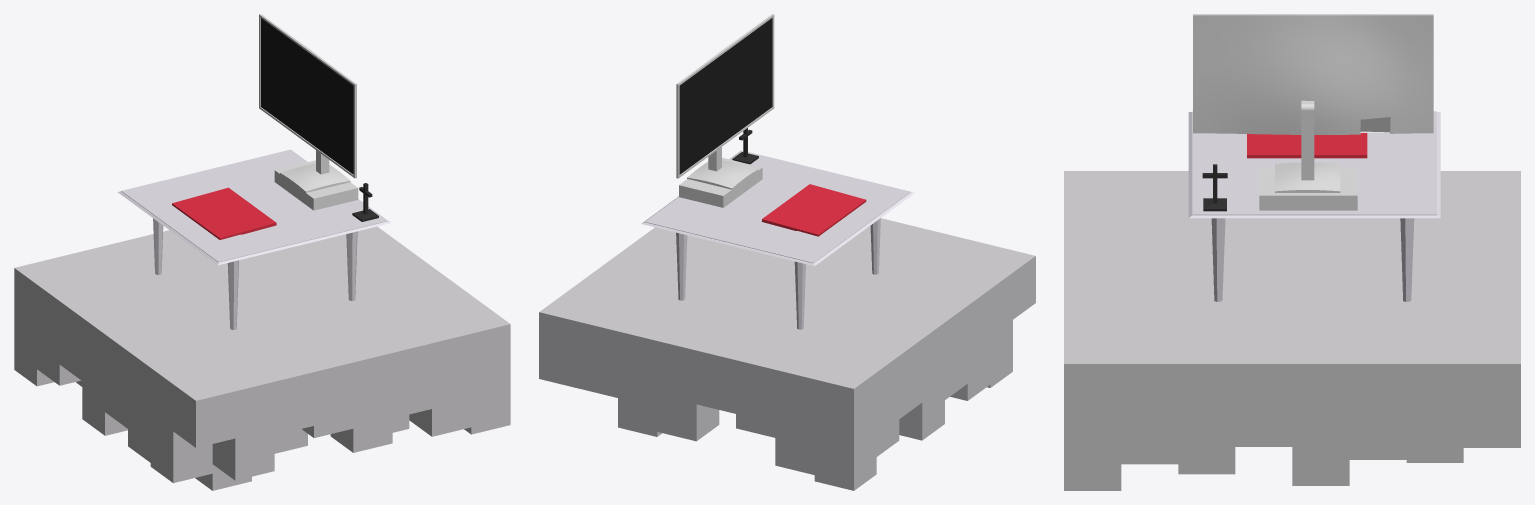
The picture shows the model from 3 angles, left to right: view 1: azimuth 30°, elevation 25°; view 2: azimuth 150°, elevation 25°; view 3: azimuth 270°, elevation 25°; orthographic projection. The views are drawn at different scales.
Visible parts, largest first — view 1: ground, tabletop, screen, laptop, legs, bottombox, base; view 2: ground, tabletop, screen, laptop, legs, bottombox, base; view 3: ground, screen, tabletop, laptop, bottombox, legs, base, spine, cross.
Boxes of the visible parts, box(x1,y1,x2,y2) form: ground: box(14, 226, 510, 490); tabletop: box(117, 149, 390, 265); screen: box(259, 14, 356, 178); laptop: box(172, 187, 276, 239); legs: box(153, 218, 357, 329); bottombox: box(274, 160, 358, 210); base: box(280, 163, 350, 192); ground: box(539, 218, 1035, 490); tabletop: box(641, 150, 914, 266); screen: box(676, 14, 774, 178); laptop: box(761, 184, 866, 236); legs: box(676, 218, 880, 329); bottombox: box(679, 157, 762, 207); base: box(687, 160, 757, 189); ground: box(1064, 171, 1520, 490); screen: box(1193, 14, 1433, 134); tabletop: box(1188, 111, 1440, 218); laptop: box(1247, 133, 1367, 158); bottombox: box(1259, 168, 1357, 210); legs: box(1211, 218, 1414, 301); base: box(1275, 162, 1340, 192); spine: box(1301, 100, 1314, 180); cross: box(1202, 164, 1227, 211).
Bounding box in the file's own units: 23.18 × 24.23 × 23.18.
